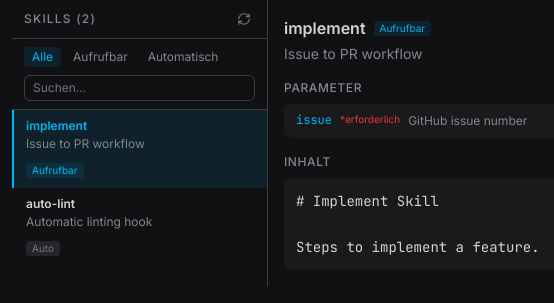
Scenario: SkillsViewer › combines invokable filter and search query
Check: the text "Skills (2)" is shown, box [24,11,96,27]
Click the button "Automatisch" at (183, 57), box [140,47,226,67]
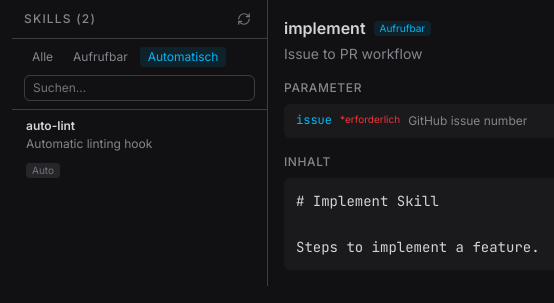
Type "implement" into the field with placeholder "Suchen..." at (140, 88), box [24,75,255,101]
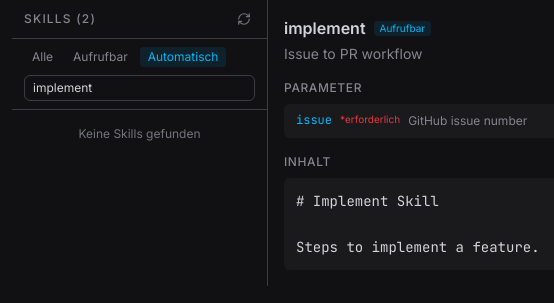
Check: the text "Keine Skills gefunden" is shown, box [78,126,201,141]
